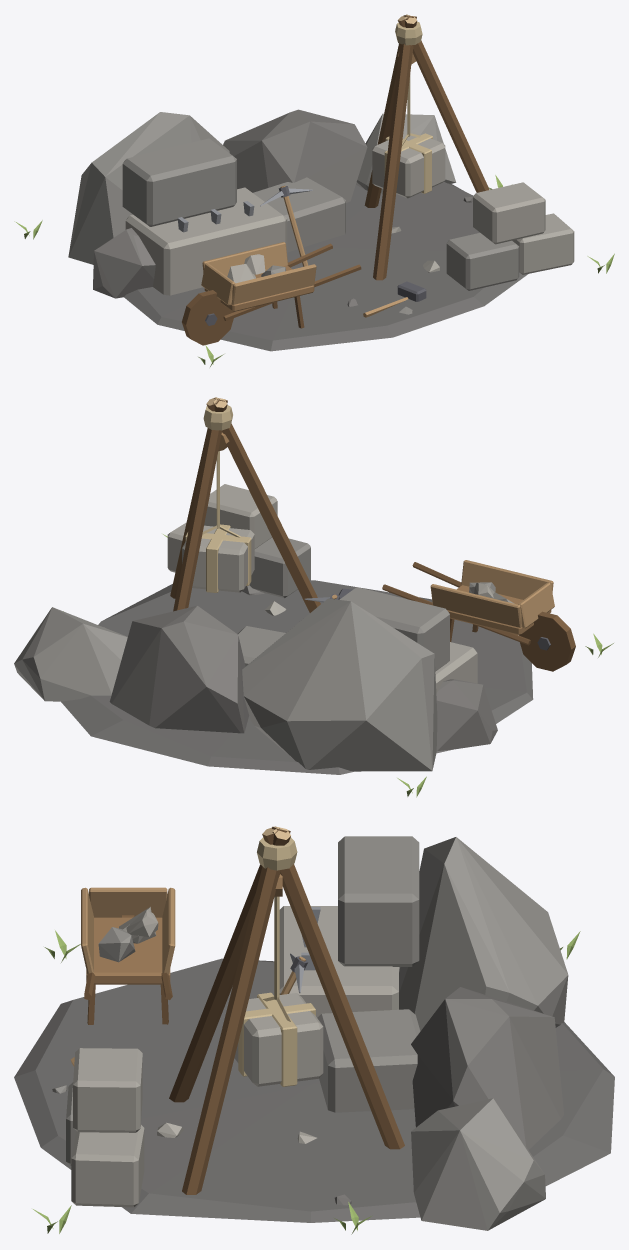
The model's file is quarry_1.glb.
3 views of the same model, one above another, from view 1: azimuth 30°, elevation 25°; view 2: azimuth 150°, elevation 25°; view 3: azimuth 270°, elevation 25° (orthographic). The views are drawn at different scales.
Visible parts, largest first — view 1: Quarry; view 2: Quarry; view 3: Quarry.
Boxes of the visible parts, box(x1,y1,x2,y2) form: Quarry: box(14, 14, 614, 366); Quarry: box(14, 397, 613, 797); Quarry: box(14, 826, 614, 1234).
Bounding box in the file's own units: 5.1 × 2.67 × 4.44.
